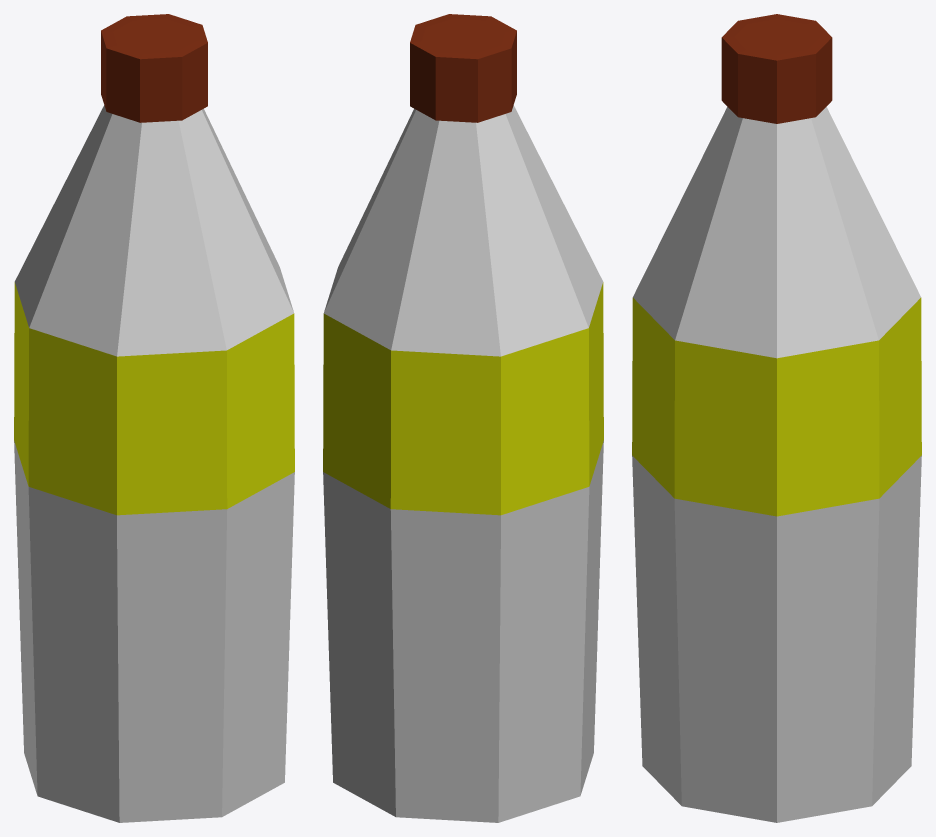
File: Bottle.fbx
The picture shows the model from 3 angles, left to right: view 1: azimuth 30°, elevation 25°; view 2: azimuth 150°, elevation 25°; view 3: azimuth 270°, elevation 25°; orthographic projection.
Parts seen in each view (by area): view 1: Circle; view 2: Circle; view 3: Circle.
Boxes of the visible parts, x1=… form: Circle: x1=14, y1=14, x2=294, y2=822; Circle: x1=323, y1=14, x2=603, y2=822; Circle: x1=632, y1=14, x2=921, y2=822.
Size of the model in its own units: 68.17 by 189 by 68.17.
